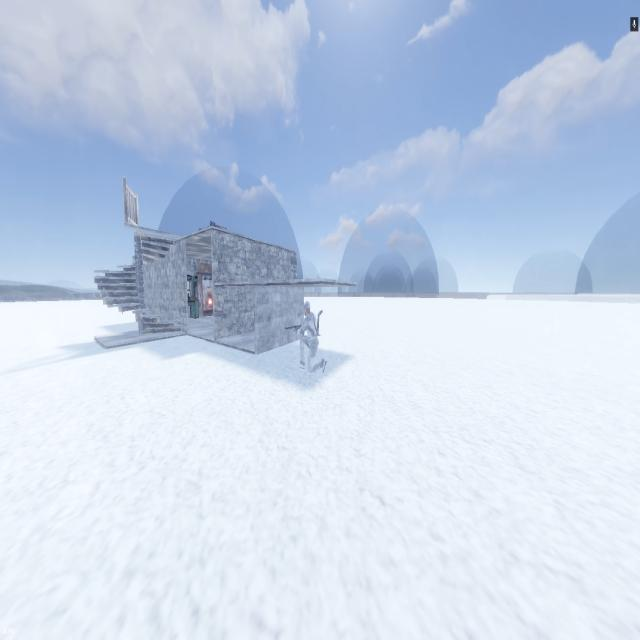Player: (296, 300, 327, 374)
